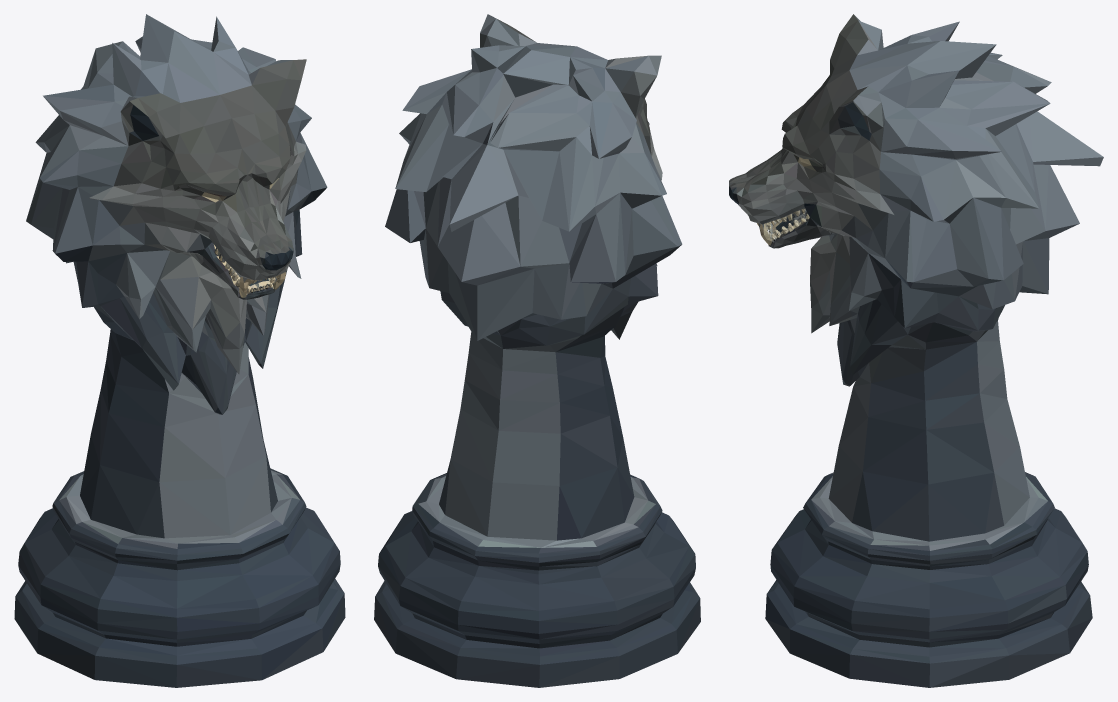
Rendered from loup.glb.
3 renders of one model, left to right at view 1: azimuth 30°, elevation 25°; view 2: azimuth 150°, elevation 25°; view 3: azimuth 270°, elevation 25°, orthographic.
Parts seen in each view (by area): view 1: mesh_node; view 2: mesh_node; view 3: mesh_node.
Part boxes in pixels (left/top/right/bottom): mesh_node: left=14, top=14, right=345, bottom=687; mesh_node: left=374, top=14, right=700, bottom=687; mesh_node: left=729, top=14, right=1103, bottom=687.
Size of the model in its own units: 0.5147 by 1 by 0.5874.
